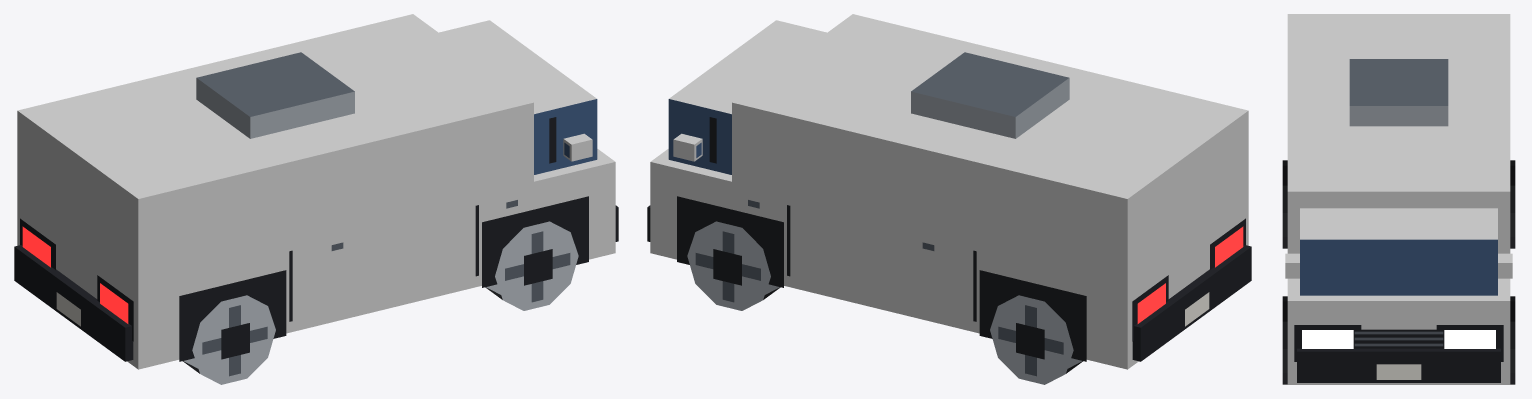
Rendered from van_cargo.glb.
3 renders of one model, left to right at view 1: azimuth 30°, elevation 25°; view 2: azimuth 150°, elevation 25°; view 3: azimuth 270°, elevation 25°, orthographic. The views are drawn at different scales.
Visible parts, largest first — view 1: van_cargo; view 2: van_cargo; view 3: van_cargo.
Boxes of the visible parts, <box> form: van_cargo: <box>14,14,618,384</box>; van_cargo: <box>647,14,1251,384</box>; van_cargo: <box>1282,14,1515,384</box>.
Bounding box in the file's own units: 0.4256 × 0.185 × 0.1924.
